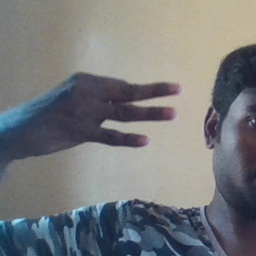K: (10, 68, 186, 159)
